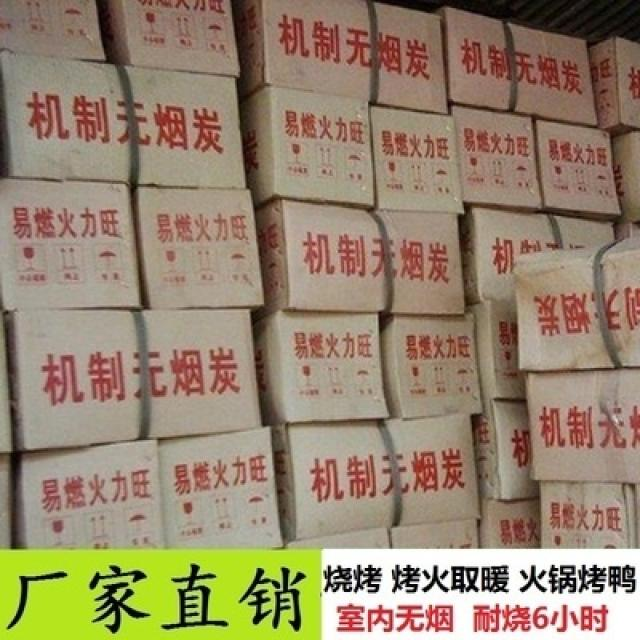box: (3, 306, 264, 452), (1, 178, 264, 312), (3, 53, 246, 190), (237, 87, 464, 214), (253, 199, 467, 324), (253, 309, 485, 423), (271, 416, 484, 540), (230, 1, 448, 114), (436, 6, 597, 124), (450, 106, 621, 217), (16, 438, 167, 551), (521, 234, 638, 375), (156, 427, 287, 550), (460, 204, 611, 308), (526, 371, 638, 482), (98, 1, 240, 75), (475, 398, 541, 502), (469, 297, 528, 410), (542, 480, 638, 546), (2, 1, 109, 60), (285, 519, 483, 548), (590, 38, 638, 135), (607, 128, 638, 224), (479, 498, 541, 546), (1, 311, 15, 452), (0, 453, 18, 547), (611, 219, 638, 237)
